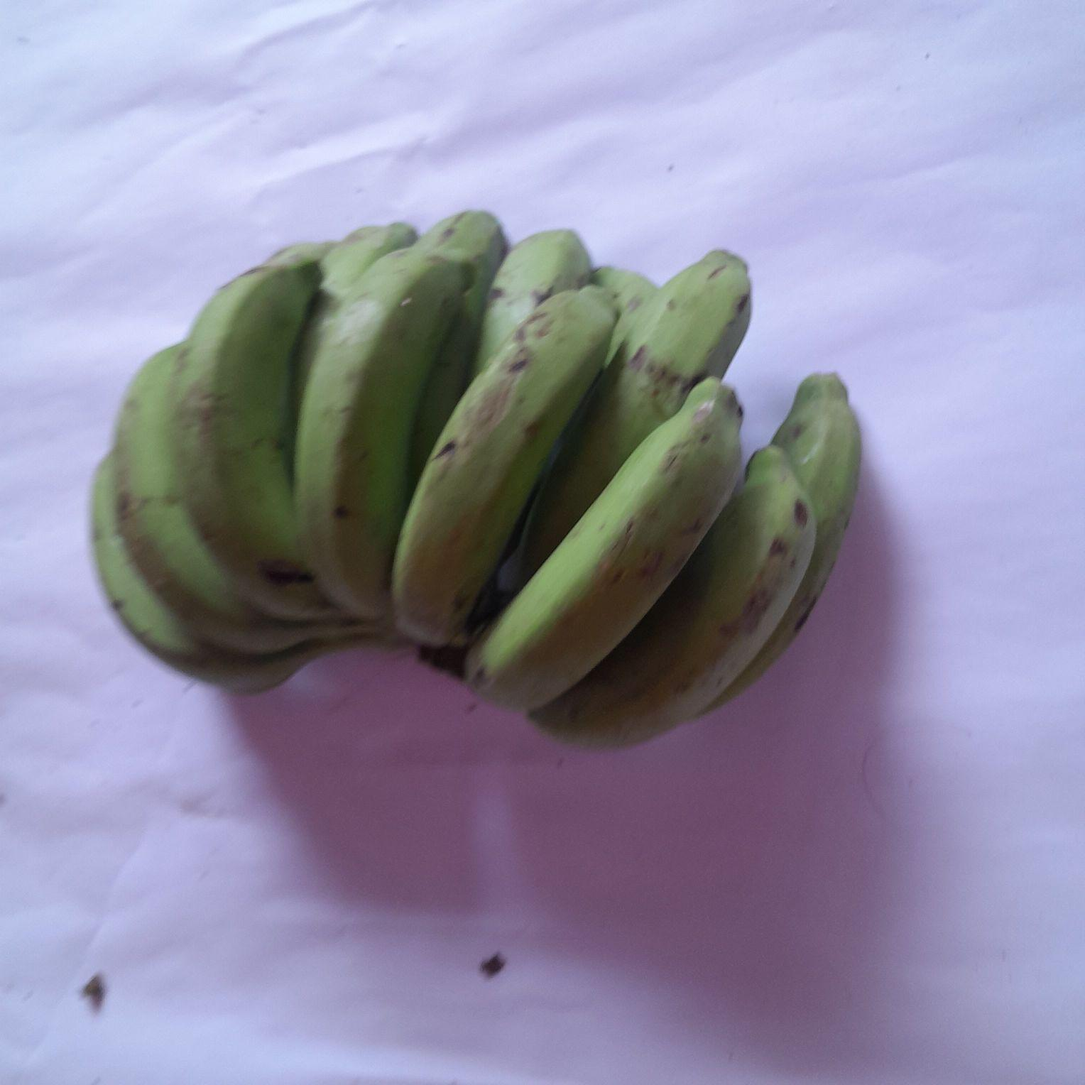Banana Unripe: (466, 377, 742, 711), (530, 447, 816, 746), (392, 286, 617, 646), (515, 250, 750, 583), (295, 235, 475, 619), (112, 346, 331, 653), (176, 246, 337, 620), (91, 453, 328, 693), (718, 373, 860, 701)
